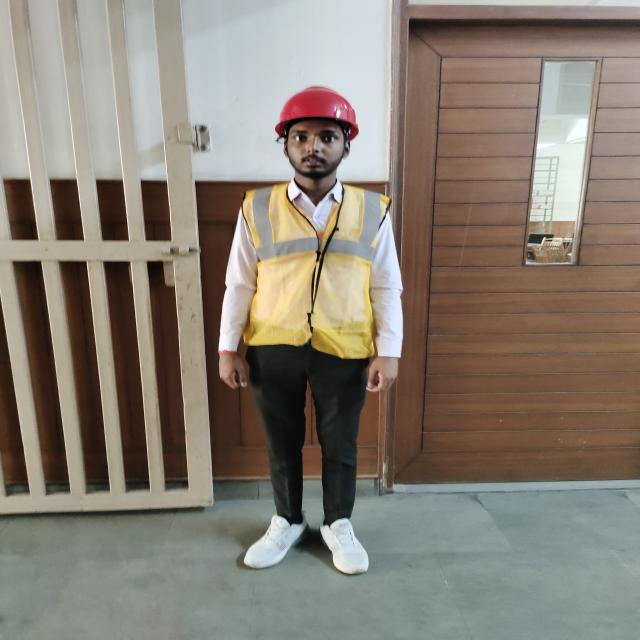safe: (220, 86, 401, 574)
